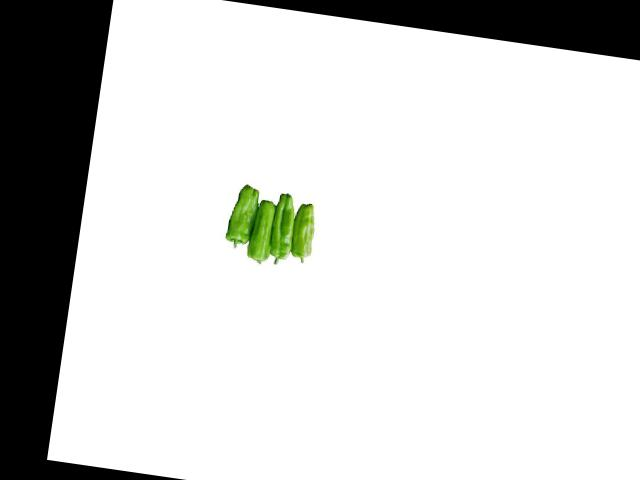bell_pepper: (223, 177, 261, 253)
